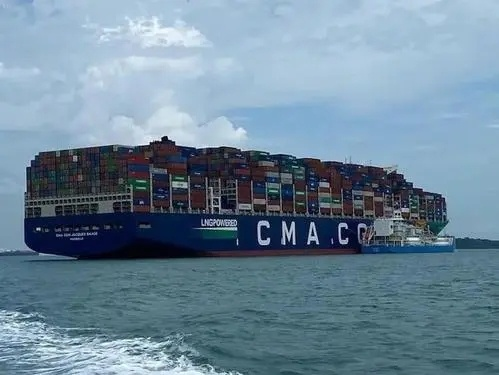Cargoship: (14, 136, 451, 257)
otherboat: (355, 211, 454, 257)
